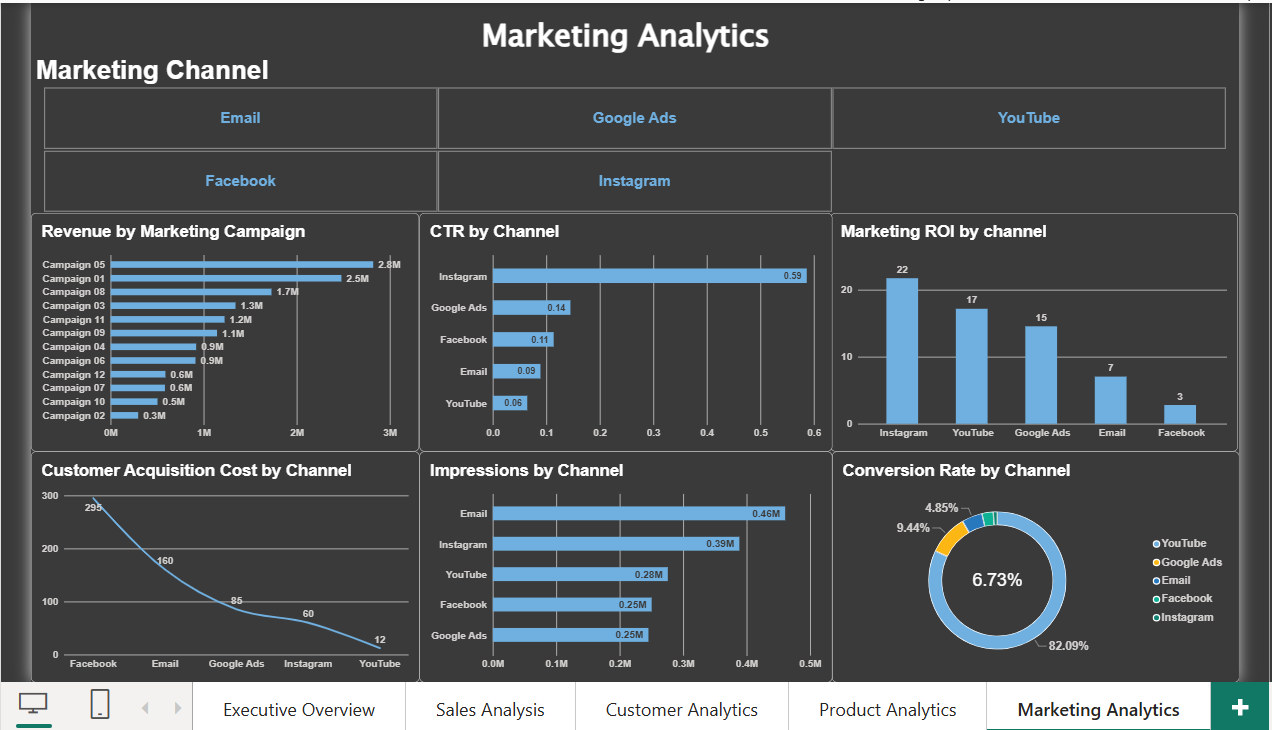

Layout of this report page (visuals, bound fields, positions):
{"tool":"powerbi","page":{"name":"Marketing Analytics","canvas":[1920,1080],"ordinal":4},"visuals":[{"type":"clusteredBarChart","title":"Revenue by Marketing Campaign","fields":{"Category":["marketing_cleaned.campaign_name"],"Y":["customer_analysis.Marketing Revenue"]},"box":[0,105,618,505.8],"z":0},{"type":"clusteredColumnChart","fields":{"Y":["customer_analysis.Marketing ROI"],"Category":["marketing_cleaned.channel"]},"box":[1274.1,105,646.6,505.8],"z":1000},{"type":"lineChart","title":"Customer Acquisition Cost by Channel","fields":{"Category":["marketing_cleaned.channel"],"Y":["customer_analysis.CAC"]},"box":[0,610.8,618,470],"z":2000},{"type":"donutChart","title":"Conversion Rate by Channel","fields":{"Category":["marketing_cleaned.channel"],"Y":["customer_analysis.Conversion Rate"]},"box":[1274.1,610.8,646.6,470],"z":3000},{"type":"clusteredBarChart","title":"Impressions by Channel","fields":{"Category":["marketing_cleaned.channel"],"Y":["customer_analysis.Total Impressions"]},"box":[618,610.8,656.1,470],"z":4000},{"type":"barChart","title":"CTR by Channel","fields":{"Category":["marketing_cleaned.channel"],"Y":["customer_analysis.CTR"]},"box":[618,105,656.1,505.8],"z":5000},{"type":"textbox","box":[0,0,1920.7,105],"z":6000}]}

Visuals, with their boxes on the page's 1920x1080 design canvas (x1, y1, x2, y2). These are canvas units, not pixel positions in the 1272x730 screenshot, which may show the page scaled, cropped or inside an application window:
"Revenue by Marketing Campaign" clusteredBarChart: Rect(0, 105, 618, 611)
clusteredColumnChart - customer_analysis.Marketing ROI x marketing_cleaned.channel: Rect(1274, 105, 1921, 611)
"Customer Acquisition Cost by Channel" lineChart: Rect(0, 611, 618, 1081)
"Conversion Rate by Channel" donutChart: Rect(1274, 611, 1921, 1081)
"Impressions by Channel" clusteredBarChart: Rect(618, 611, 1274, 1081)
"CTR by Channel" barChart: Rect(618, 105, 1274, 611)
textbox: Rect(0, 0, 1921, 105)
